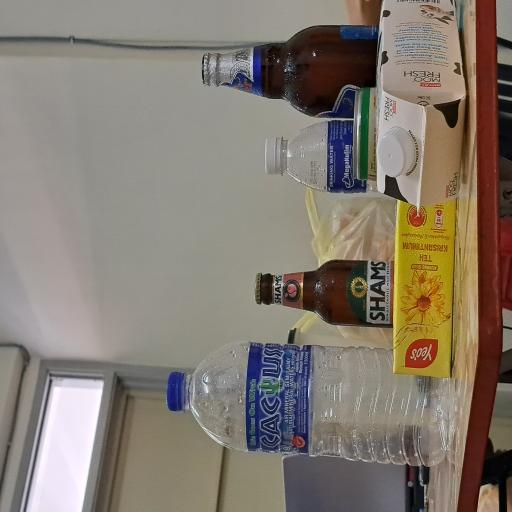glass bottle: (296, 269, 367, 512), (141, 340, 192, 512)
plastic bottle: (38, 259, 126, 512), (239, 379, 296, 512)
plastic bottle cap: (74, 219, 107, 247), (256, 349, 282, 375)
